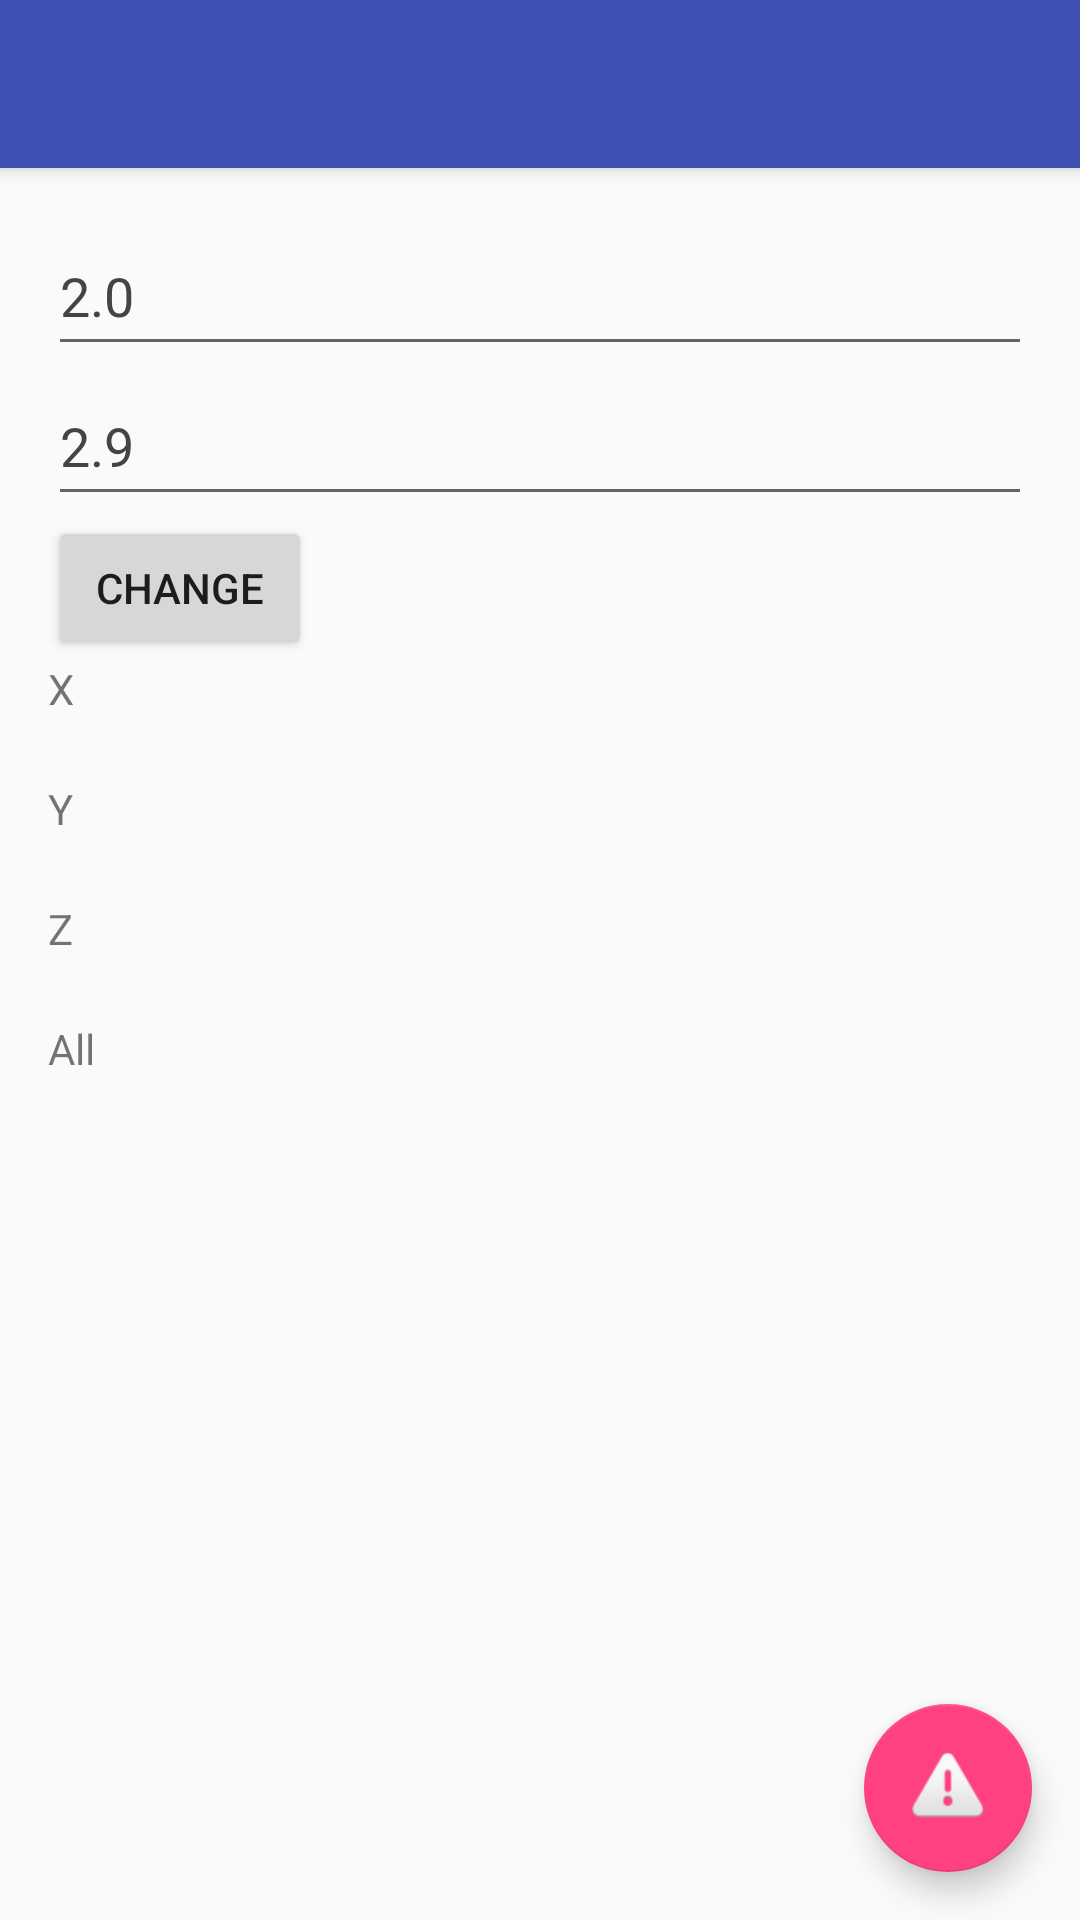

Locate icon controls on the screen. Image size 1080px x 1920px, boxes as (x1,y1,x2,y2).
alert: (864,1704,1032,1872)
